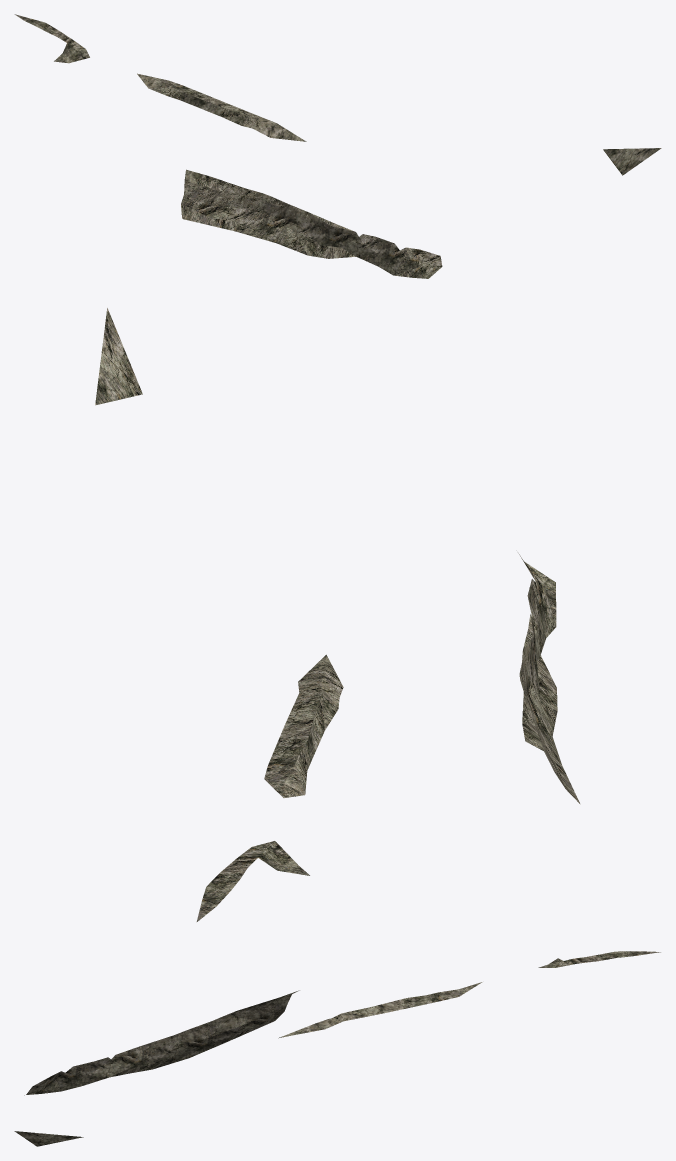
The model's file is ce_grndpalcst08a.obj.
The picture shows the model from 3 angles, top to bottom: view 1: azimuth 30°, elevation 25°; view 2: azimuth 150°, elevation 25°; view 3: azimuth 270°, elevation 25°; orthographic projection. The views are drawn at different scales.
Visible parts, largest first — view 1: CE_grndPALCST08A; view 2: CE_grndPALCST08A; view 3: CE_grndPALCST08A.
Boxes of the visible parts, bbox=[...] form: CE_grndPALCST08A: bbox=[14, 14, 661, 278]; CE_grndPALCST08A: bbox=[95, 308, 580, 921]; CE_grndPALCST08A: bbox=[14, 951, 660, 1146].
Bounding box in the file's own units: 135 × 30.17 × 196.
1 material, 1 textured.
